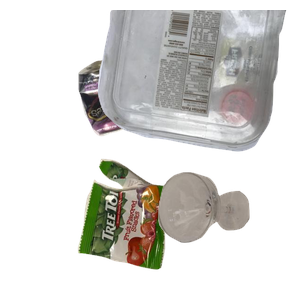glass: (156, 170, 300, 300)
metal: (75, 56, 198, 185)
plastic: (95, 10, 300, 154)
trash: (75, 156, 244, 300)
